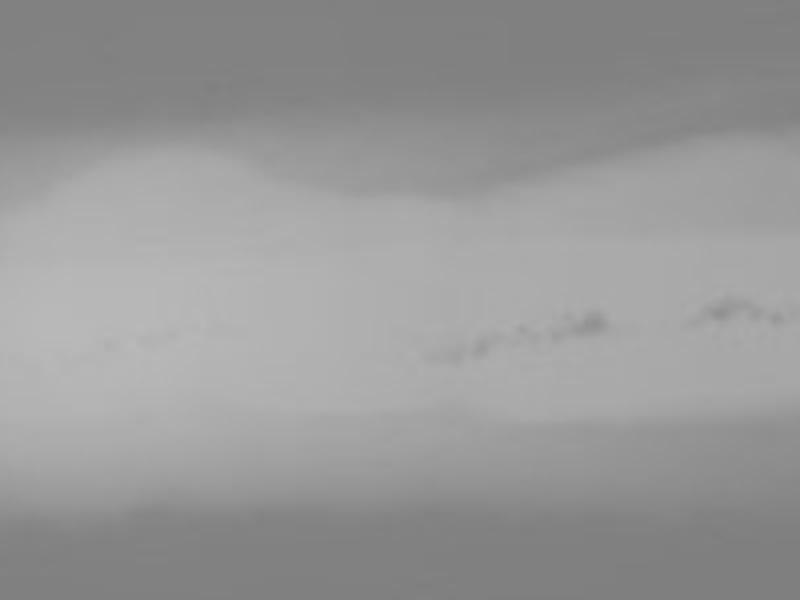defect: (697, 296, 763, 327), (567, 313, 608, 341), (440, 334, 464, 367), (473, 337, 488, 364)
